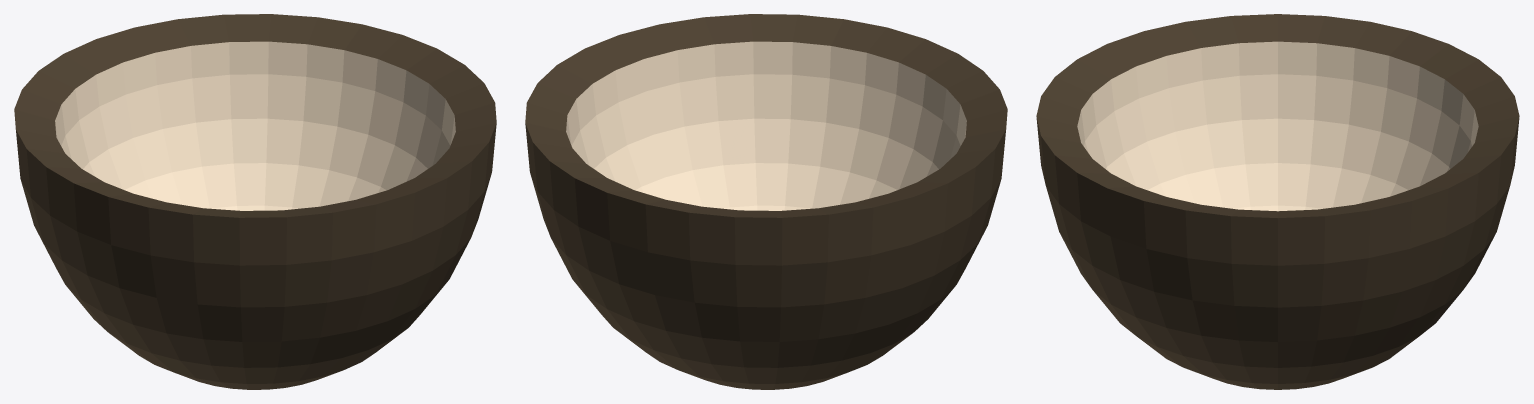
Rendered from coconut-open.fbx.
3 renders of one model, left to right at view 1: azimuth 30°, elevation 25°; view 2: azimuth 150°, elevation 25°; view 3: azimuth 270°, elevation 25°, orthographic.
Visible parts, largest first — view 1: Sphere; view 2: Sphere; view 3: Sphere.
Part boxes in pixels (x1,y1,x2,y2): Sphere: [14, 14, 496, 389]; Sphere: [525, 14, 1007, 389]; Sphere: [1036, 14, 1519, 389].
Size of the model in its own units: 200 by 116 by 200.
